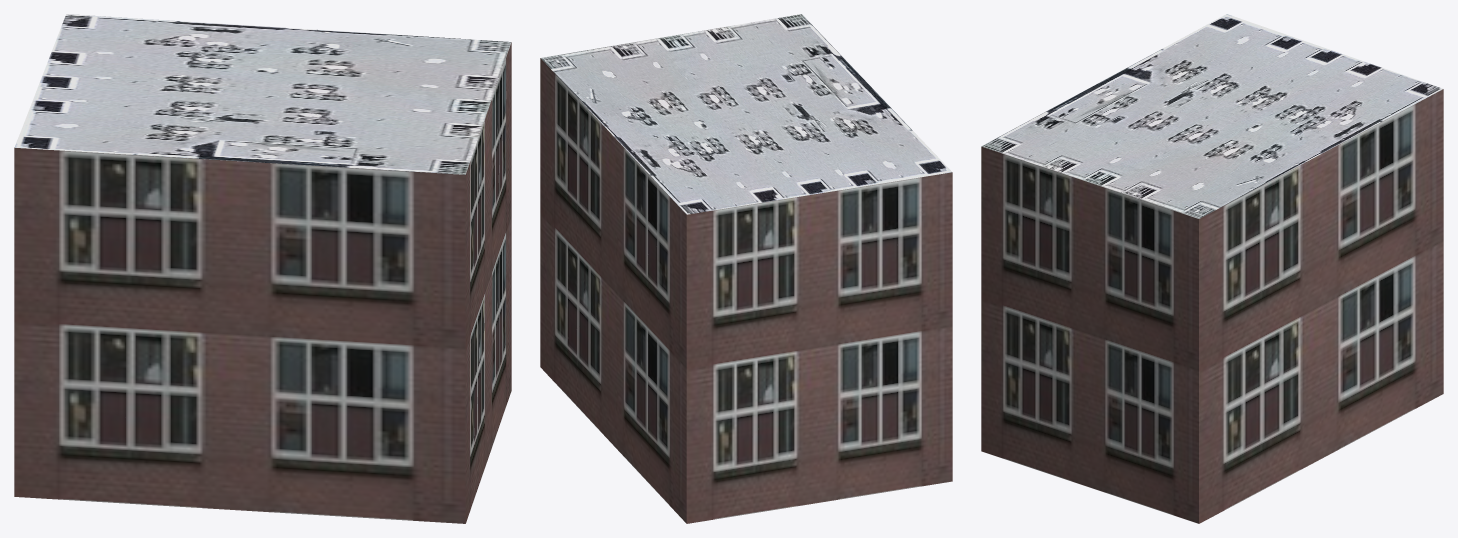
The model's file is ResTex__2914.fbx.
The picture shows the model from 3 angles, left to right: view 1: azimuth 30°, elevation 25°; view 2: azimuth 150°, elevation 25°; view 3: azimuth 270°, elevation 25°; orthographic projection. The views are drawn at different scales.
Visible parts, largest first — view 1: CityEngineMaterial_12_m, CityEngineMaterial_m; view 2: CityEngineMaterial_12_m, CityEngineMaterial_m; view 3: CityEngineMaterial_12_m, CityEngineMaterial_m.
Part boxes in pixels (bbox=[...]): CityEngineMaterial_12_m: bbox=[14, 42, 511, 523]; CityEngineMaterial_m: bbox=[14, 14, 511, 174]; CityEngineMaterial_12_m: bbox=[540, 58, 952, 523]; CityEngineMaterial_m: bbox=[541, 14, 951, 214]; CityEngineMaterial_12_m: bbox=[981, 89, 1443, 523]; CityEngineMaterial_m: bbox=[981, 14, 1442, 218].
Bounding box in the file's own units: 8.65 × 6 × 8.25.
2 materials, 2 textured.
